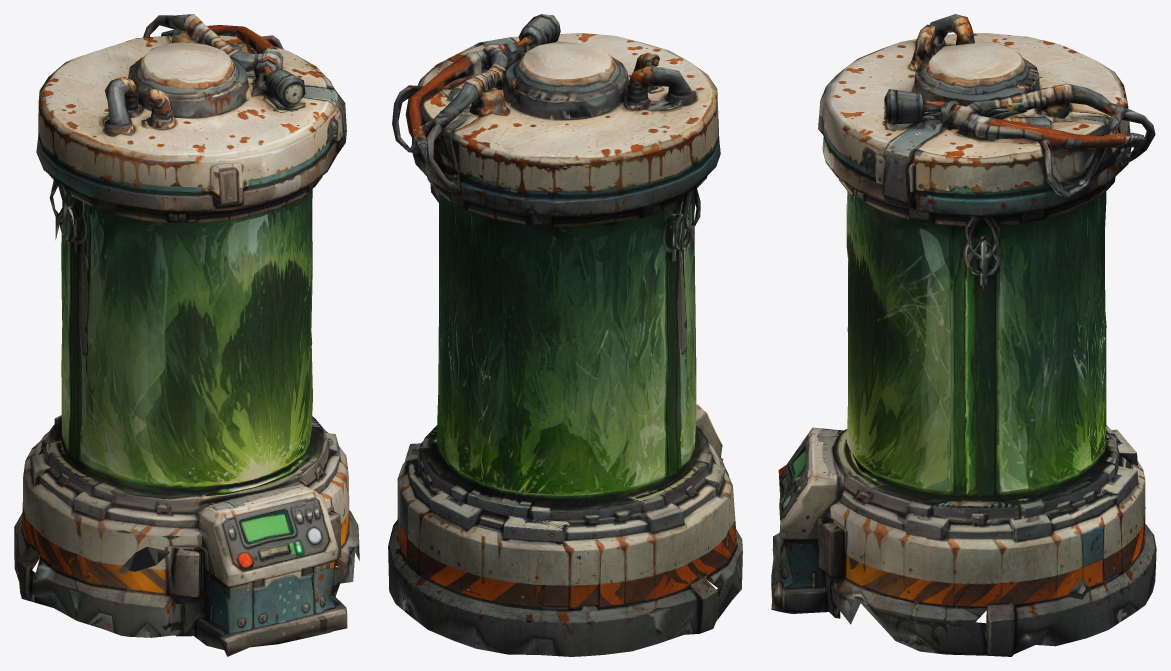
File: EX_Lab_SpecimenTank.fbx
3 renders of one model, left to right at view 1: azimuth 30°, elevation 25°; view 2: azimuth 150°, elevation 25°; view 3: azimuth 270°, elevation 25°, orthographic. The views are drawn at different scales.
Visible parts, largest first — view 1: texture_mapping; view 2: texture_mapping; view 3: texture_mapping.
Part boxes in pixels (x1,y1,x2,y2): texture_mapping: (14,14,359,656); texture_mapping: (388,14,742,656); texture_mapping: (771,14,1156,656).
Bounding box in the file's own units: 0.6262 × 0.6602 × 1.
1 material, 1 textured.
